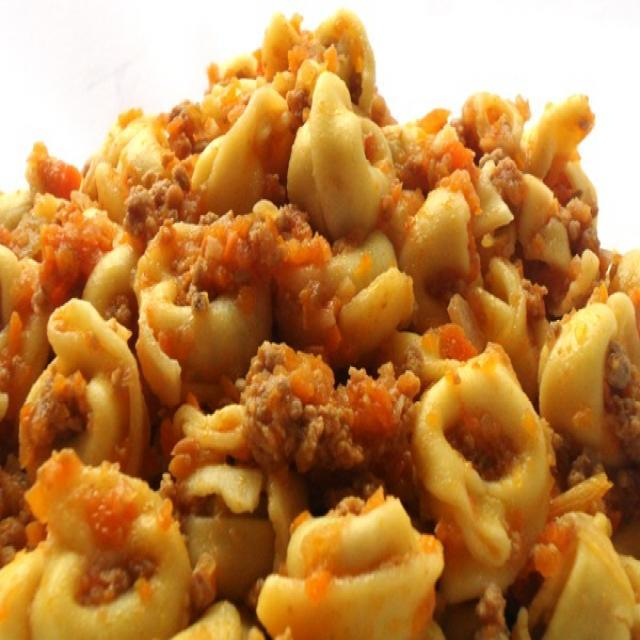Pasta al ragu: (13, 14, 640, 638)
